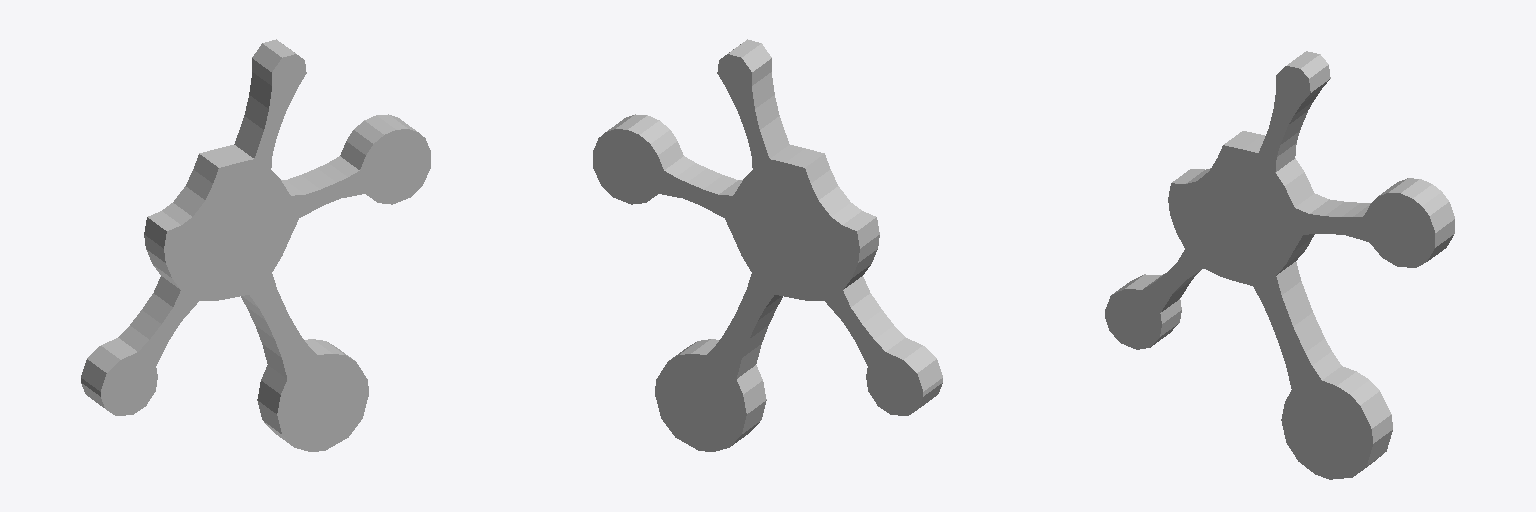
The model's file is SOFA_surface.obj.
3 views of the same model, side by side, from view 1: azimuth 30°, elevation 25°; view 2: azimuth 150°, elevation 25°; view 3: azimuth 330°, elevation 25° (orthographic).
Bounding box in the file's own units: 192 × 224 × 20.